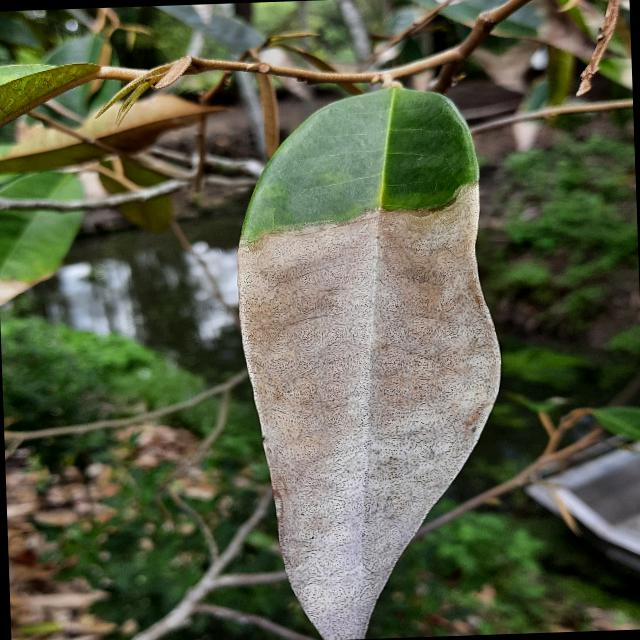Leaf Blight: (220, 73, 517, 639)
